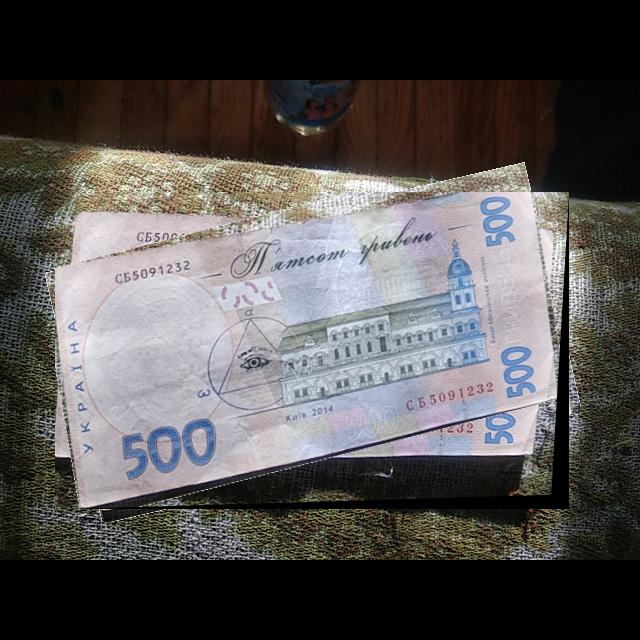500uah: (55, 192, 560, 510)
